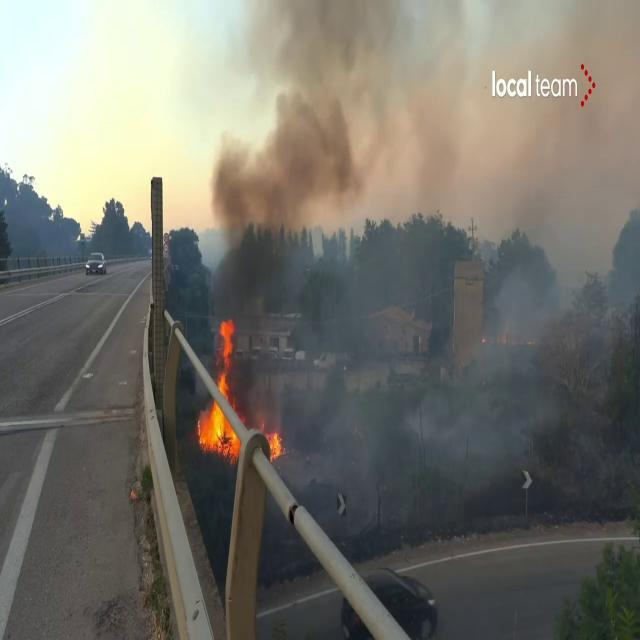Fire: (197, 324, 244, 460), (266, 422, 284, 464)
Smoke: (282, 202, 636, 488), (209, 1, 465, 240)
